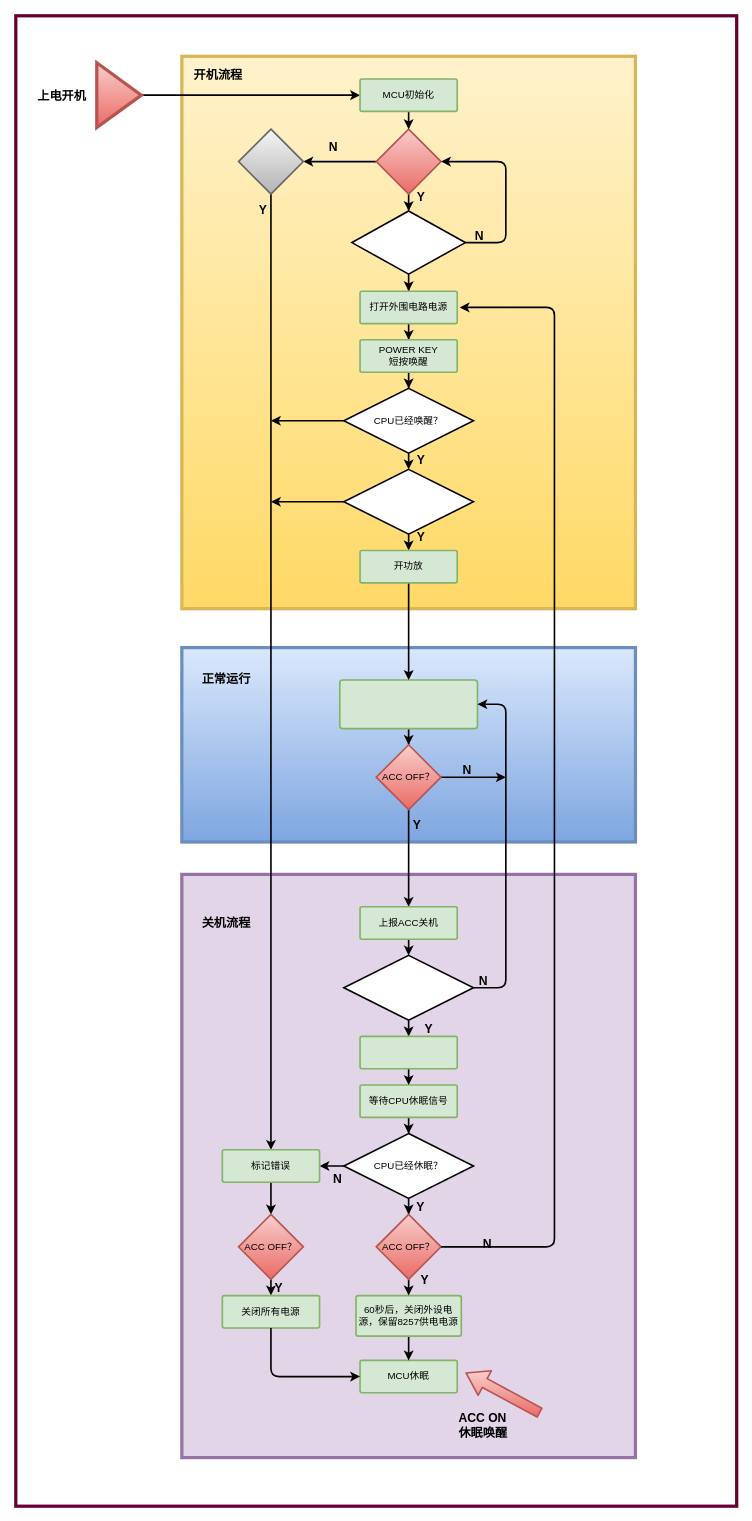
The diagram is 752 pixels wide and 1521 high, and some of its shapes have lost their labels. The shapes that lost their labels are listed below. From the top down, each one's centre as x and y in pixels, then its label:
At pixel 270 161: ">10s?".
At pixel 408 161: "ACC ON？".
At pixel 408 242: "检测打火电压?".
At pixel 408 501: "应用是否启动？".
At pixel 408 704: "采集电压，检测信号，控制外设，与应用通信".
At pixel 408 987: "ACC OFF >10s?".
At pixel 408 1052: "POWER KEY 短按休眠".
